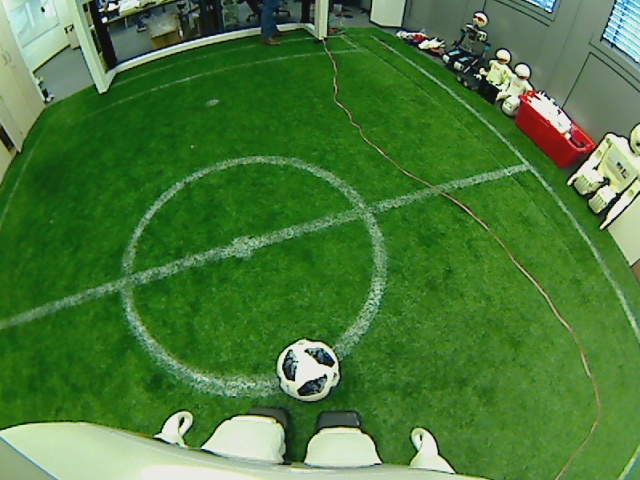ball: (274, 338, 341, 401)
